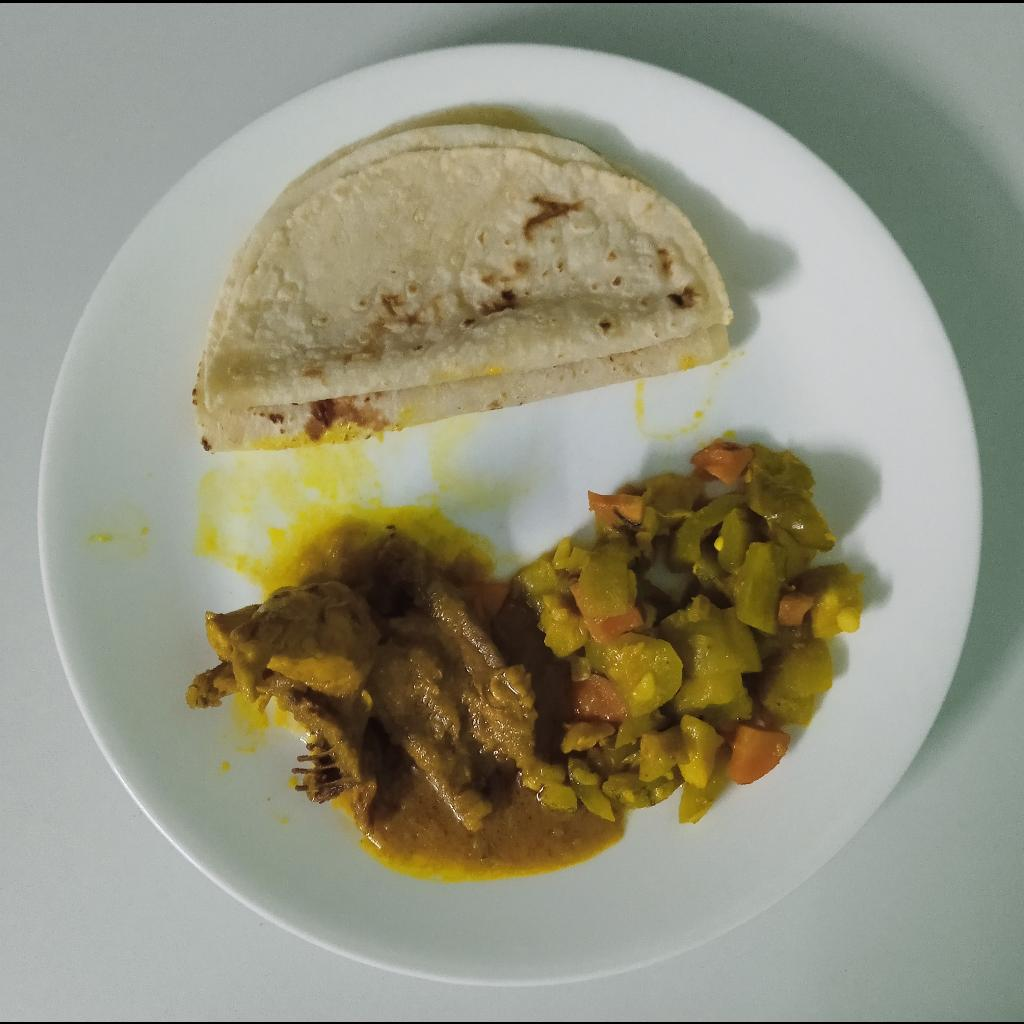chicken: (188, 538, 562, 836)
ruti: (190, 122, 729, 447)
vegetable: (524, 440, 864, 831)
